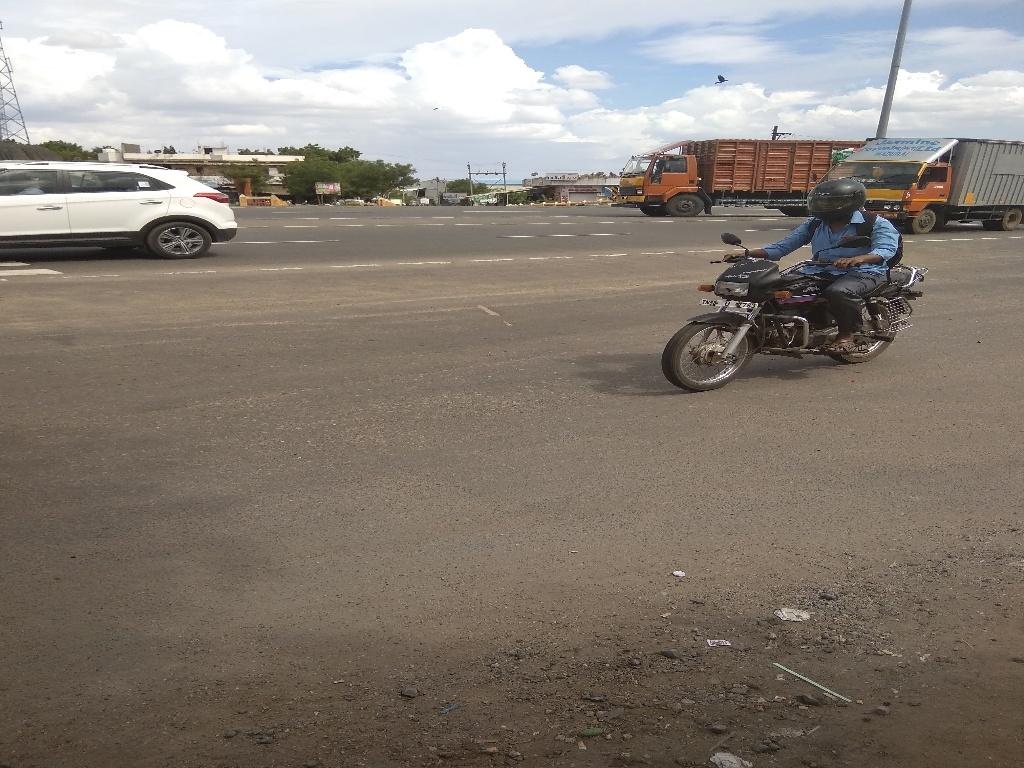biker: (647, 119, 949, 406)
helmet: (805, 163, 877, 232)
